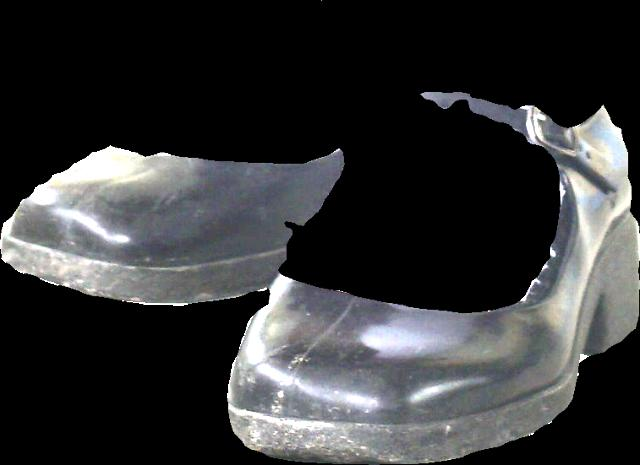blackshoes: (0, 92, 639, 464)
